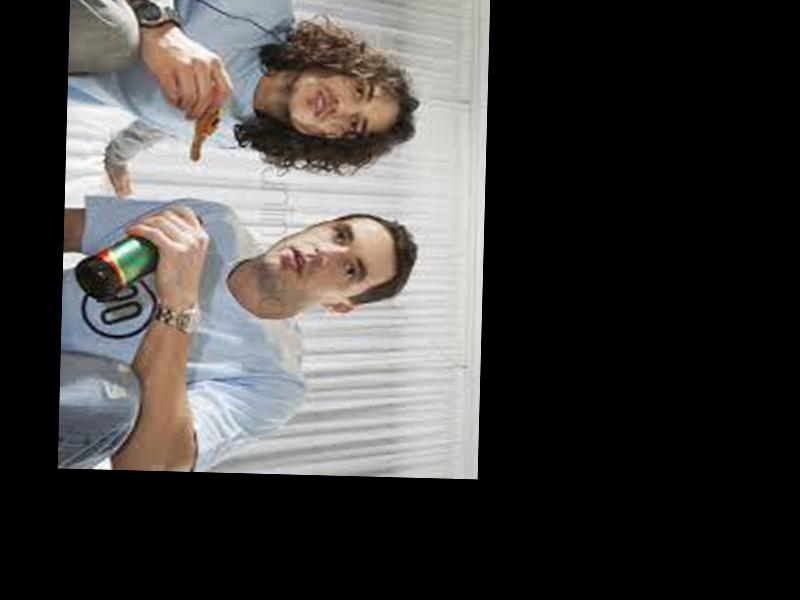Beer: (73, 212, 204, 305)
